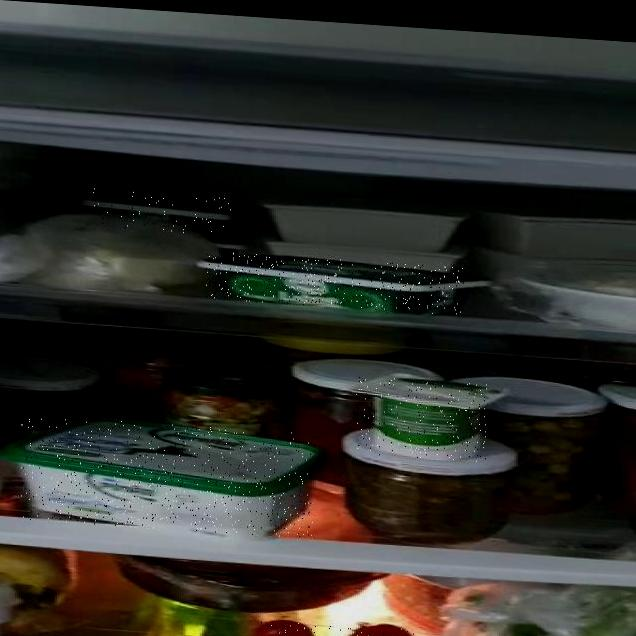cheese: (21, 414, 313, 539)
cream cheese: (206, 251, 464, 316), (85, 188, 236, 237)
tomato: (259, 619, 417, 636)
yoghurt: (356, 376, 488, 462)
